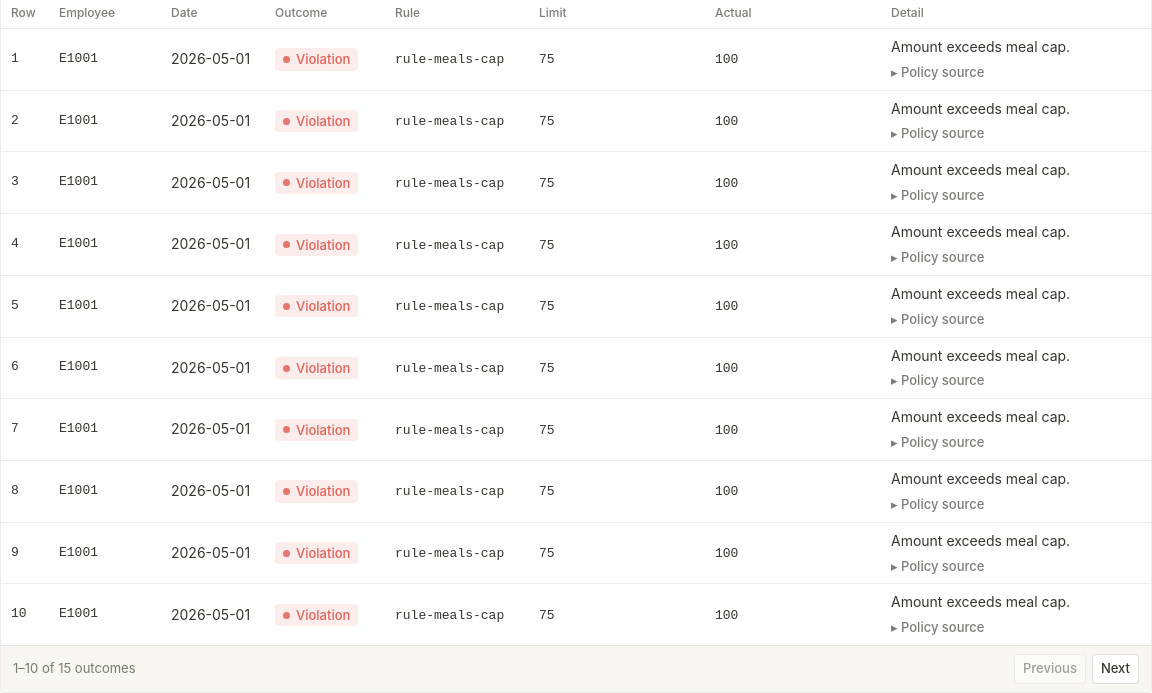
Scenario: ComplianceEvaluationRunCatalog › paginates expense outcomes on the run detail page
(page scrolled)
expect the text "1–10 of 15 outcomes" is shown: met, box [13,659,136,679]
Click the button with aria-label "Next page of outcomes" at (1115, 669), box [1092,654,1139,684]
(page scrolled)
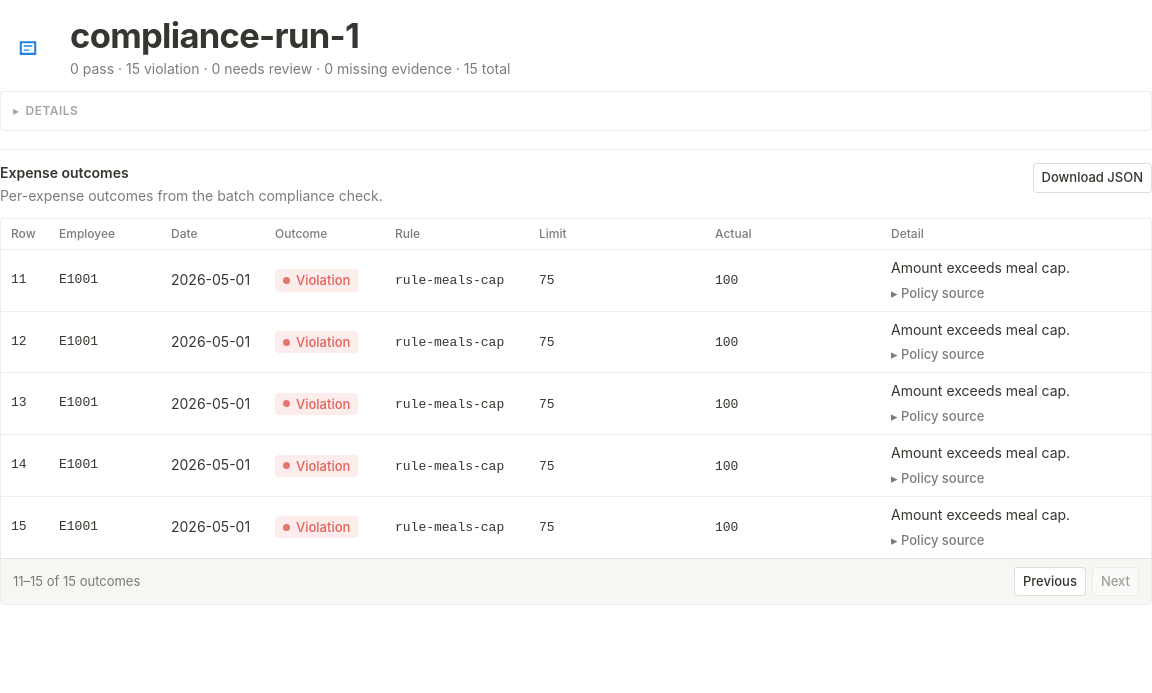
expect the text "11–15 of 15 outcomes" is shown: met, box [13,572,140,591]
expect the text "Violation" is shown 5 times: met, box [275,269,358,292]; [275,331,358,353]; [275,393,358,415]; [275,454,358,477]; [275,516,358,538]
